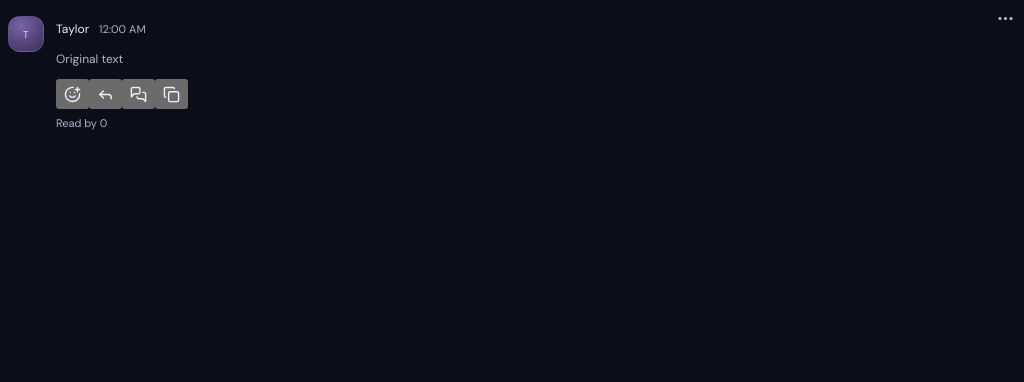
Test: edits inline, cancels without a mutation and handles a rejected save
Click the heading named "Message actions". click: (1005, 18)
box: 996,8 -> 1014,28
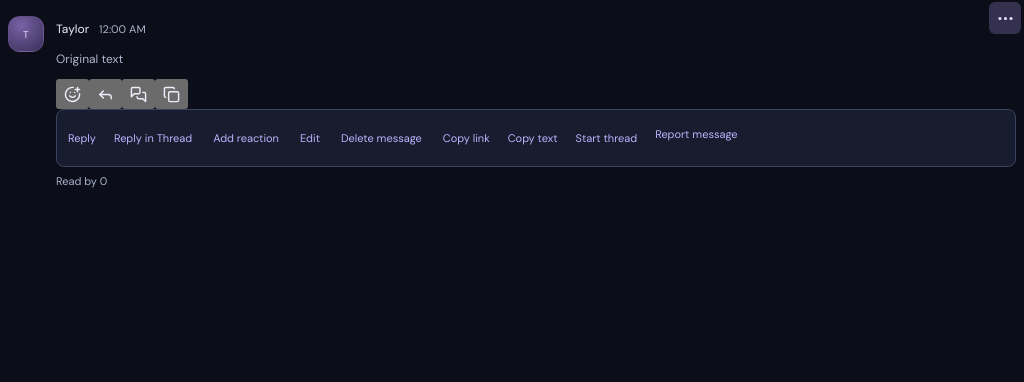
Click the button "Edit". click: (310, 138)
box: 295,116 -> 325,160
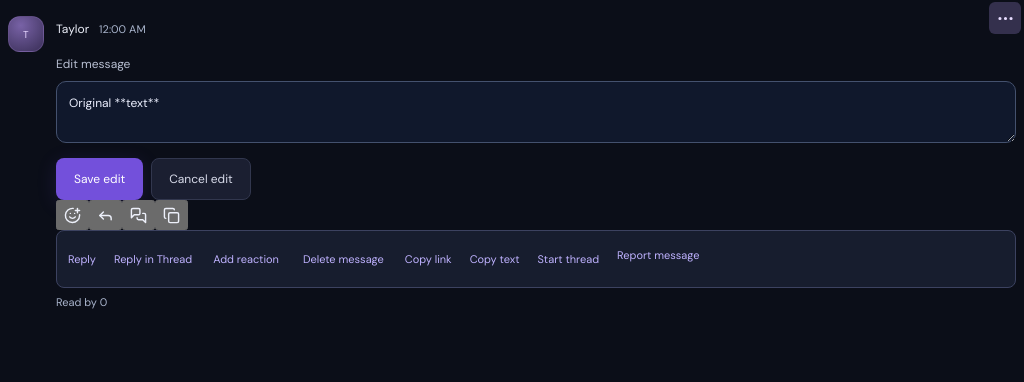
Replace the text in the text box labelled "Edit message" with "Changed". click: (536, 112)
box: 56,81 -> 1016,143
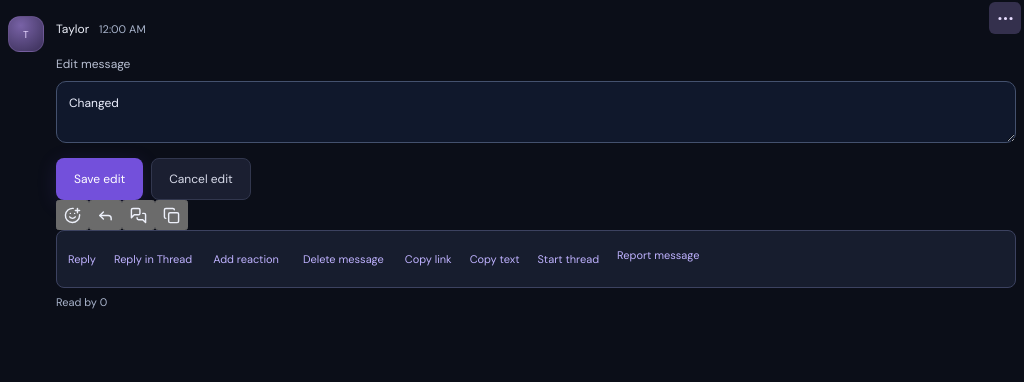
Click the button "Cancel edit". click: (201, 179)
box: 151,158 -> 251,200
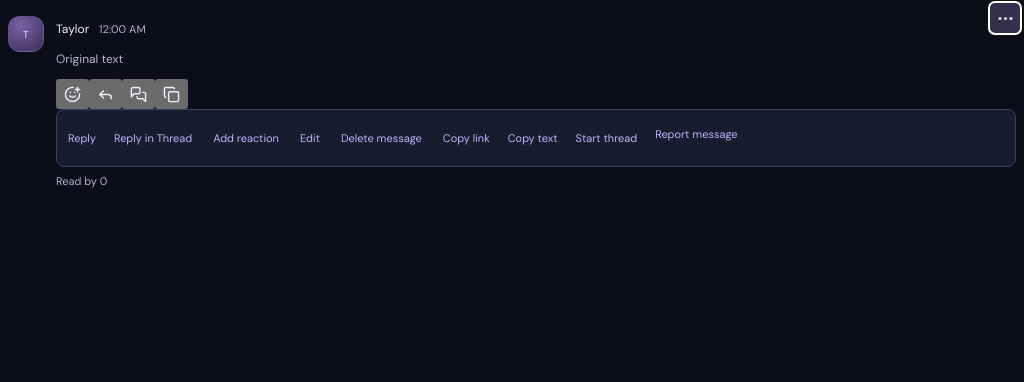
Click the button "Edit". click: (310, 138)
box: 295,116 -> 325,160
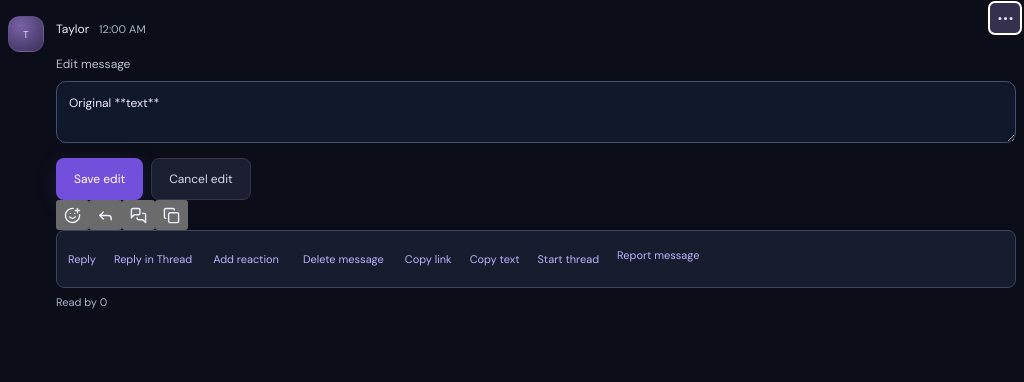
Check: the text box labelled "Edit message" holds "Original **text**", box 56,81 -> 1016,143
Click the button "Save edit". click: (100, 179)
box: 56,158 -> 143,200
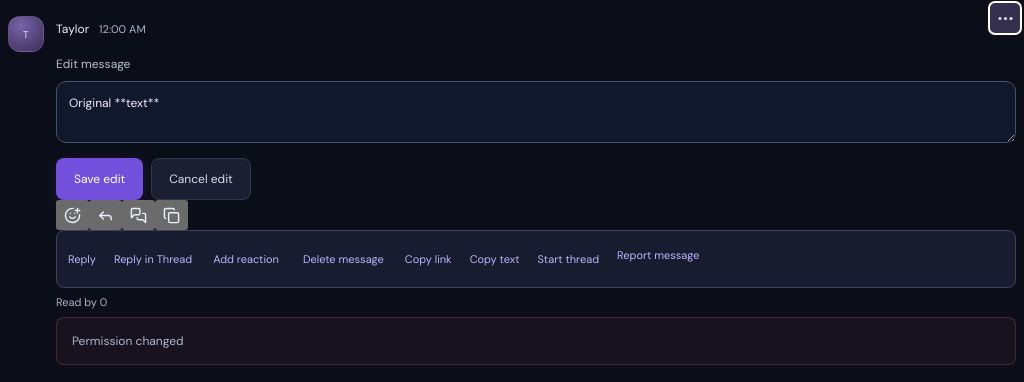
Check: the text box labelled "Edit message" is shown, box 56,81 -> 1016,143
Check: the text "Permission changed" is shown, box 56,316 -> 1016,365
